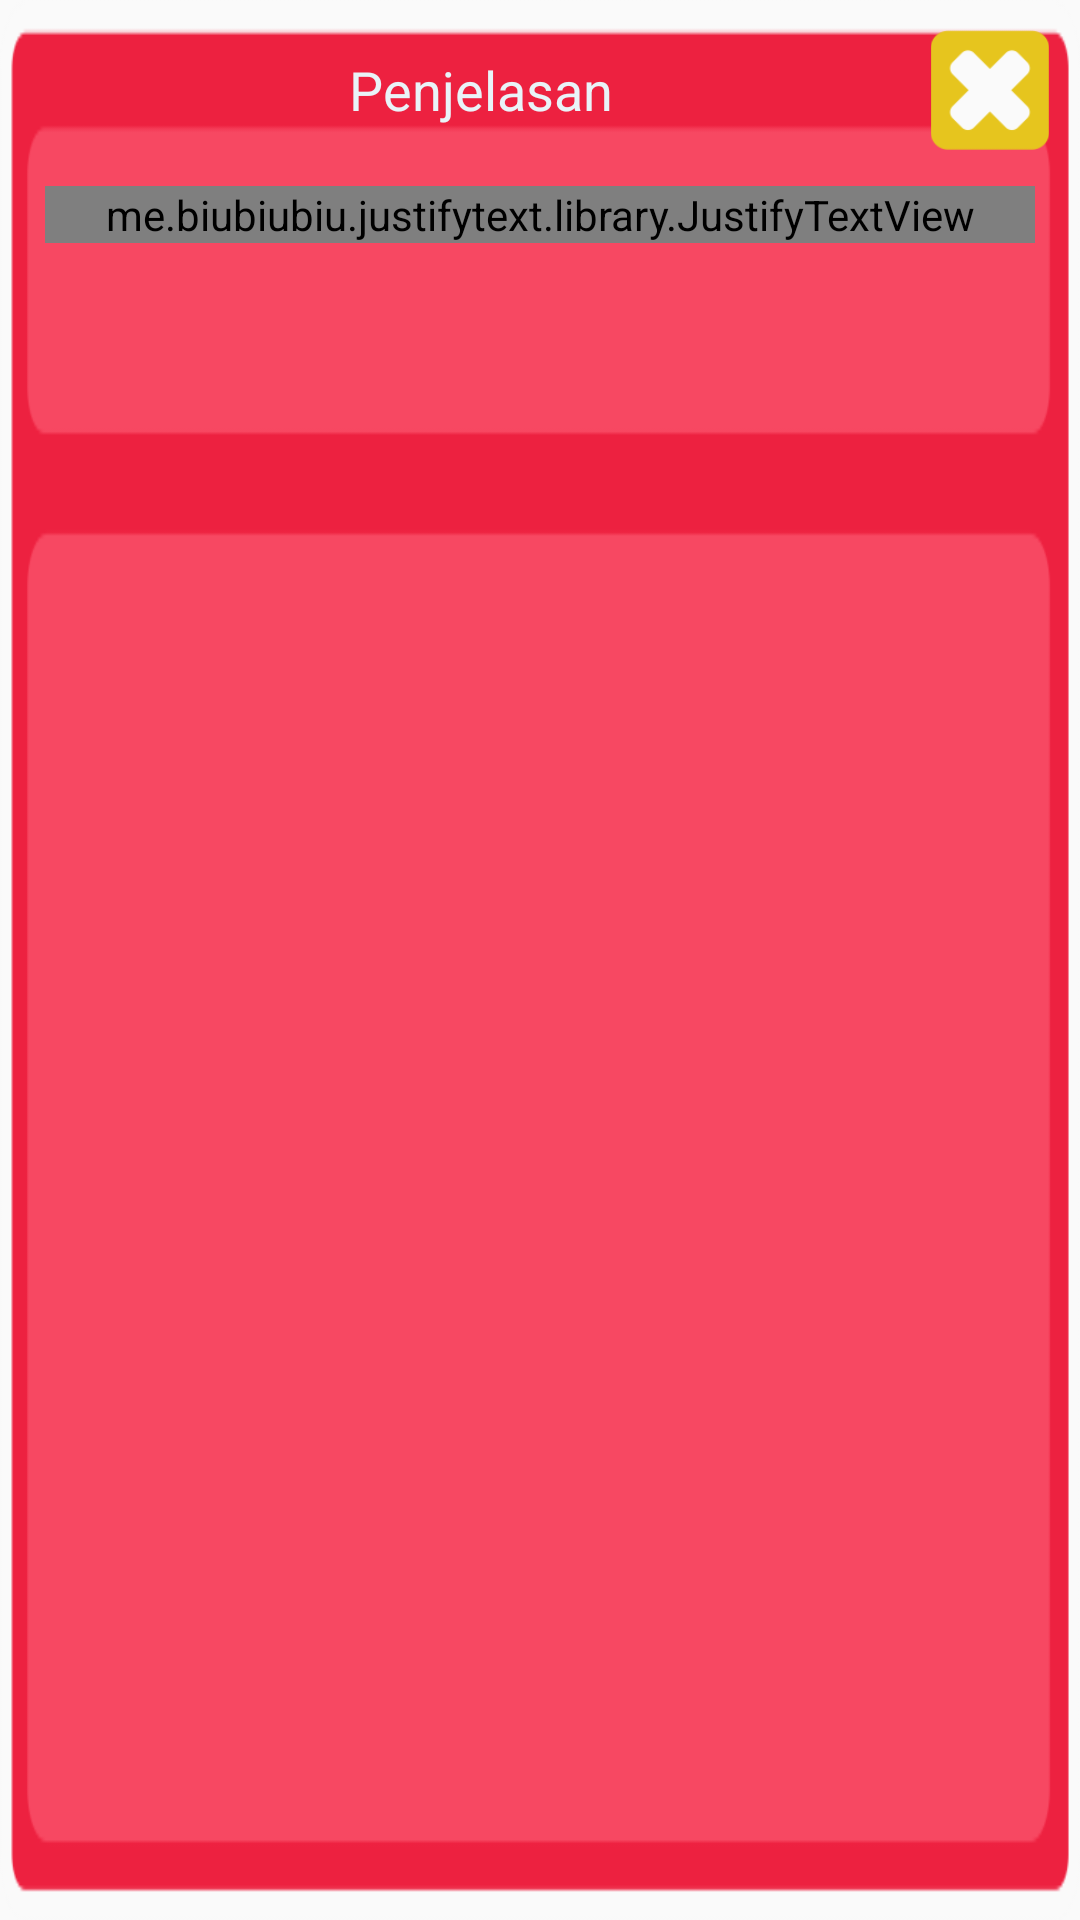

Icon click points for this 1080w x 1920h phone screenshot, format (x,y):
tutup: (990,90)
